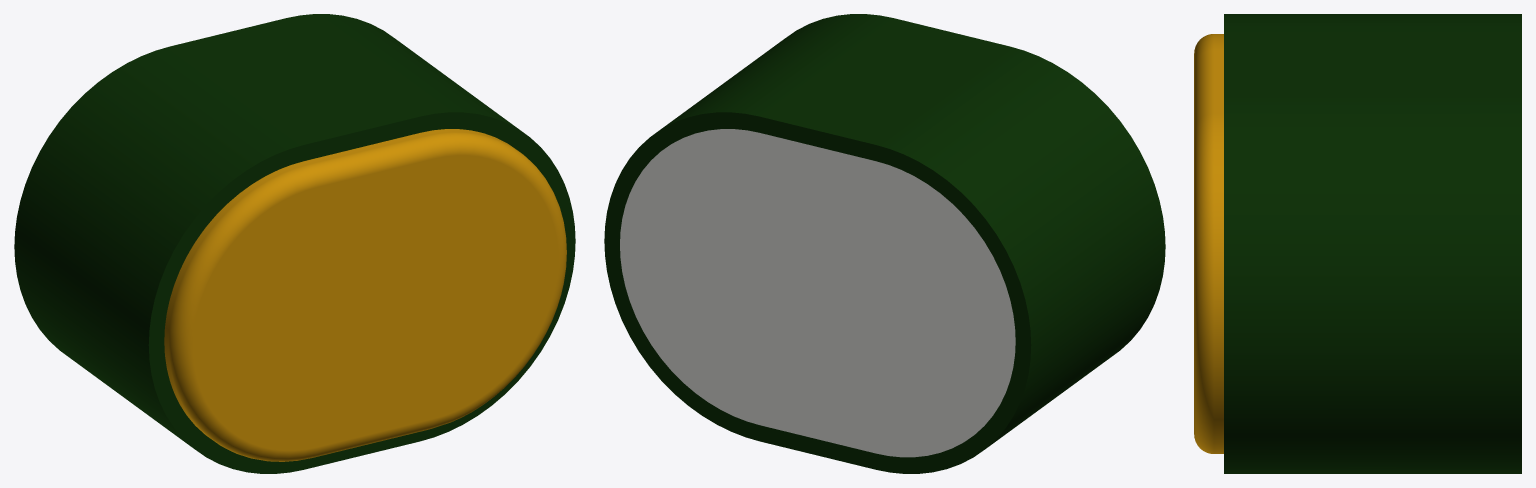
File: Uni v0.fbx
The picture shows the model from 3 angles, left to right: view 1: azimuth 30°, elevation 25°; view 2: azimuth 150°, elevation 25°; view 3: azimuth 270°, elevation 25°; orthographic projection. The views are drawn at different scales.
Parts seen in each view (by area): view 1: Body2, Body1; view 2: Body3, Body1; view 3: Body1, Body2.
Boxes of the visible parts, x1=… form: Body2: x1=164, y1=129, x2=566, y2=461; Body1: x1=14, y1=14, x2=575, y2=473; Body3: x1=620, y1=129, x2=1015, y2=457; Body1: x1=604, y1=14, x2=1165, y2=473; Body1: x1=1224, y1=14, x2=1521, y2=473; Body2: x1=1194, y1=34, x2=1223, y2=453.
Bounding box in the file's own units: 55 × 40 × 33.
